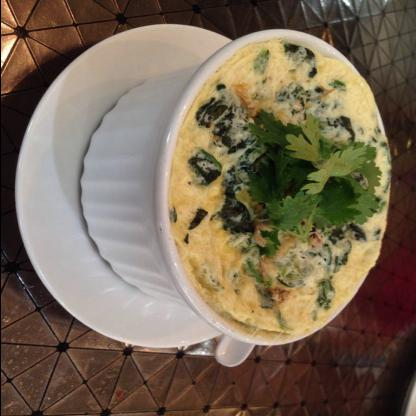Kaithoon: (77, 27, 390, 349)
